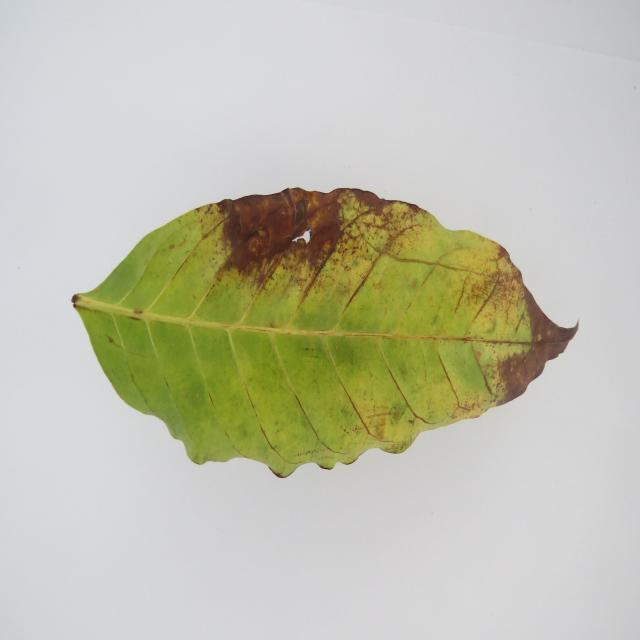DeficienciaNutricional-Potasio: (74, 188, 578, 477)
